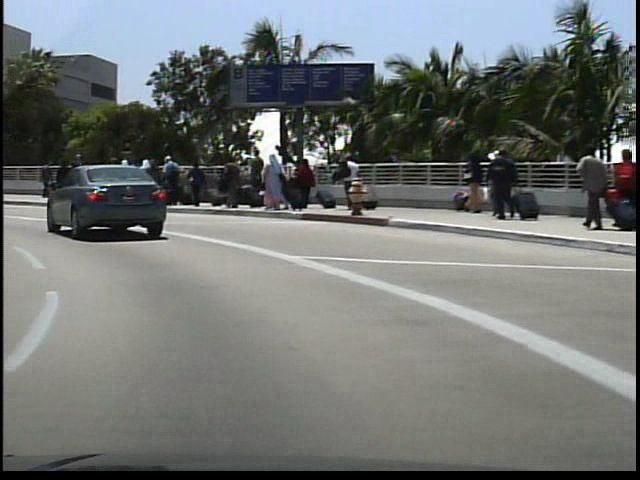person: (573, 144, 607, 231), (608, 144, 640, 225), (482, 146, 514, 220), (50, 152, 78, 211), (336, 151, 361, 208), (61, 151, 86, 205), (36, 159, 56, 200)
